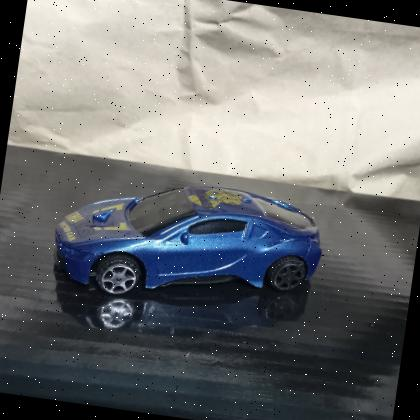Car: (44, 159, 338, 330)
